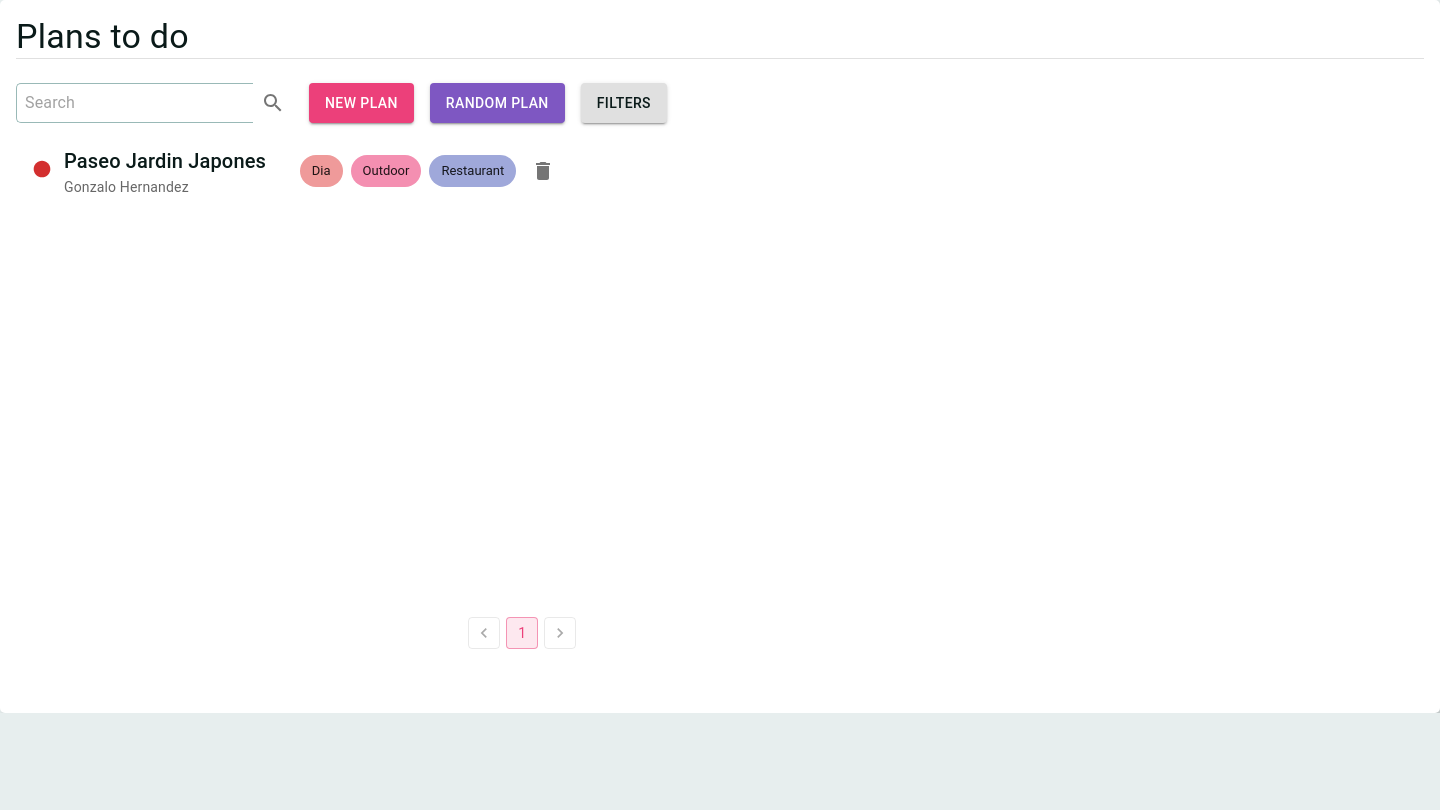
Test: after submiting the new plan form the plan summary is shown and the form is closed
The width and height of the screenshot is (1440, 810).
Click the button "New Plan".
click(361, 103)  # box [309, 83, 414, 123]
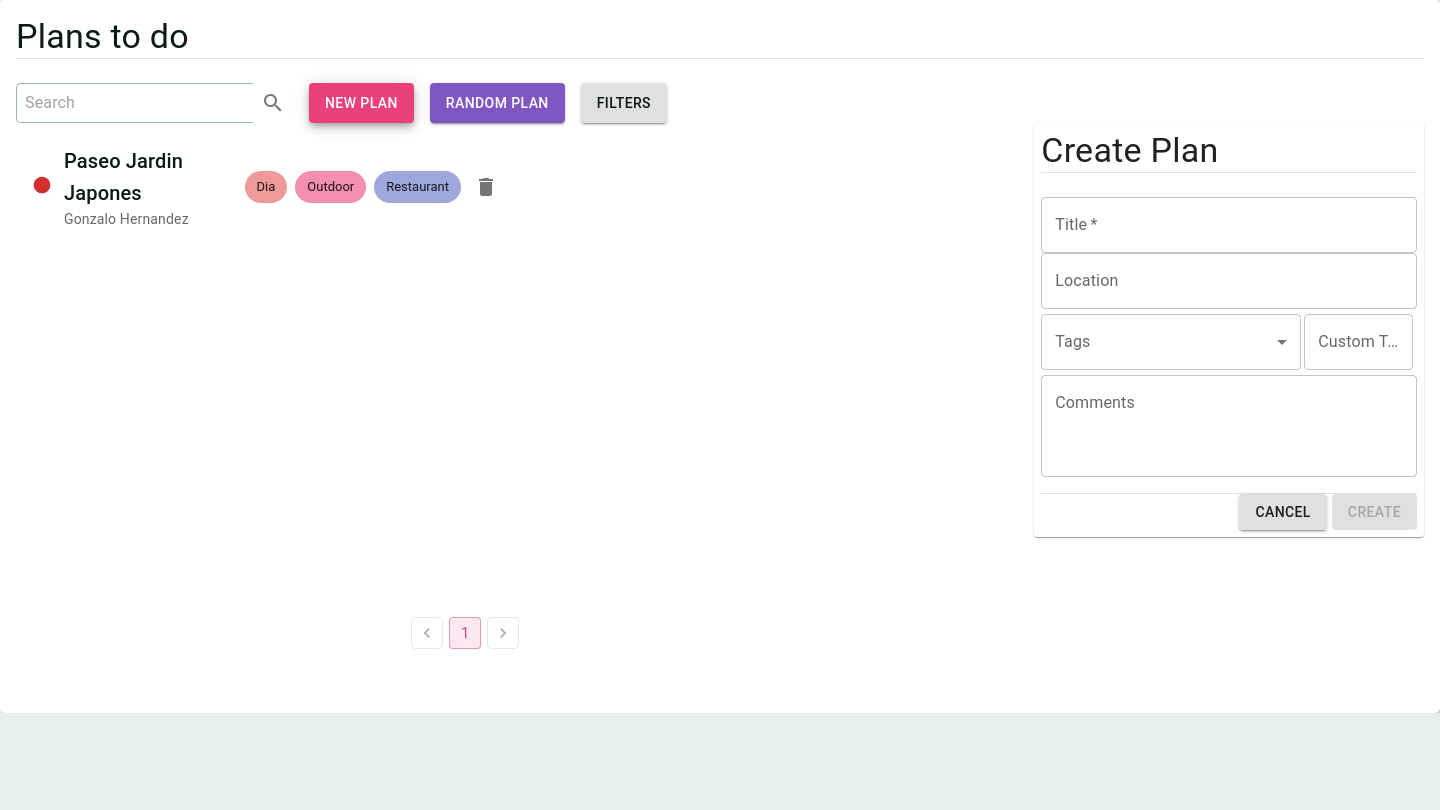
Type "Ir a ver James Bond" into the field labelled "Title *".
click(1229, 225); type("Ir a ver James Bond")  # box [1041, 197, 1417, 253]
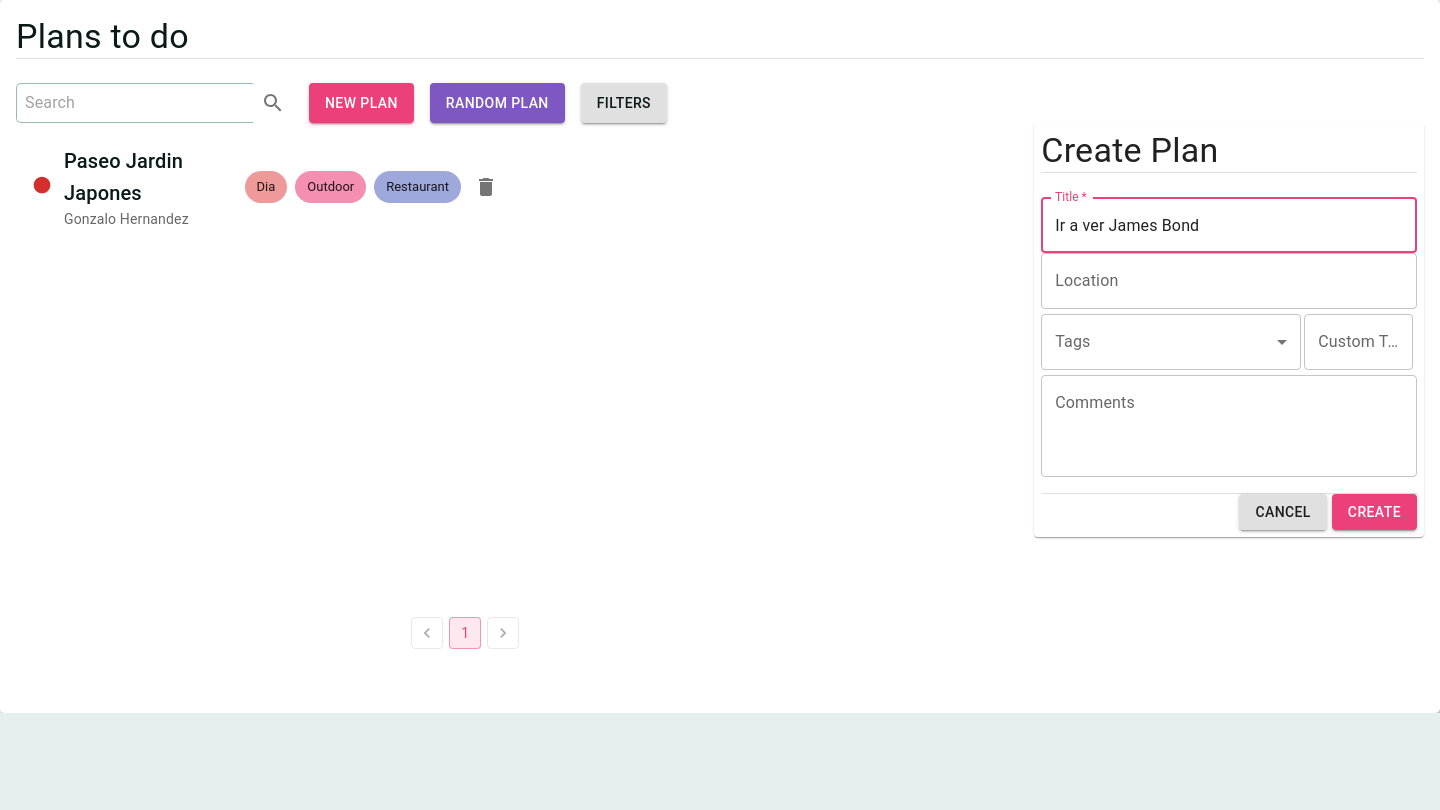
Click the button "Create".
click(1374, 512)  # box [1332, 494, 1417, 530]
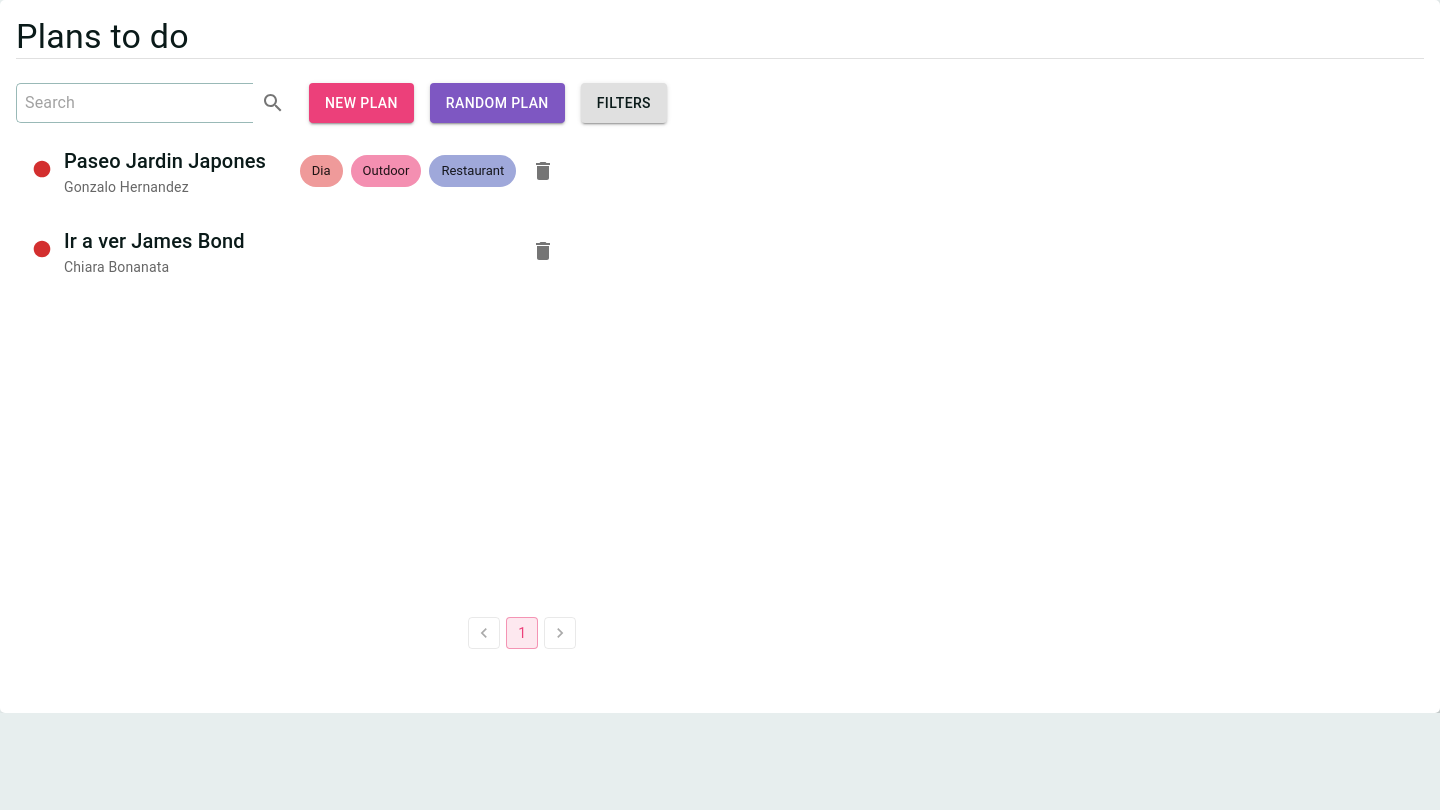
Check: the heading "Ir a ver James Bond" is shown, box [64, 229, 245, 253]
Check: the text "Chiara Bonanata" is shown, box [64, 259, 169, 275]
Check: the heading "Create Plan" is gone
